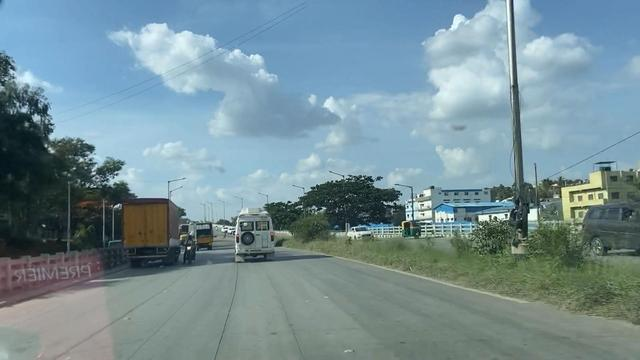HMV: (121, 199, 185, 272), (237, 209, 273, 263)
LMV: (183, 231, 192, 267)
